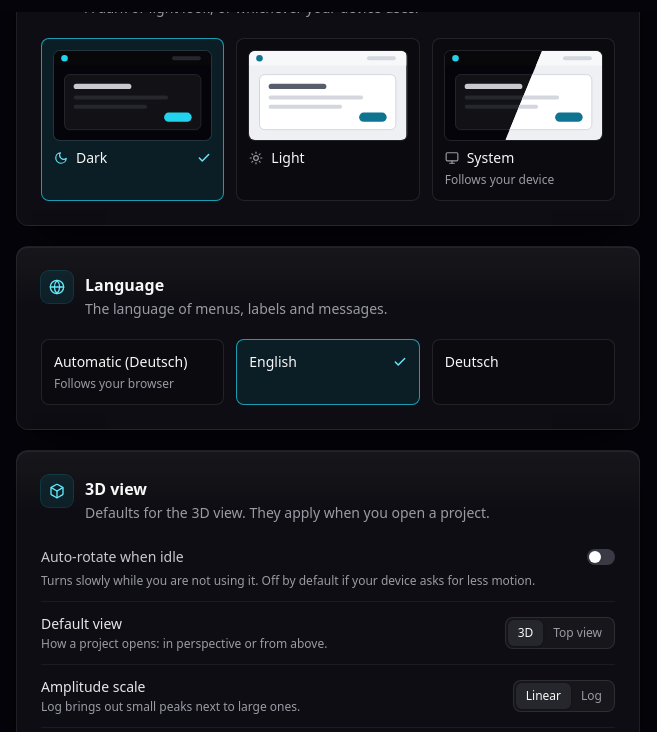
Scenario: Settings: appearance and language › switches the language, and the page follows
The width and height of the screenshot is (657, 732).
(page scrolled)
Expected: the radio button labelled "English" is checked, [236,339,420,405]
Expected: the radio button labelled "Automatic (Deutsch)" is not checked, [41,339,224,405]
Click the radio button labelled "Deutsch" at (523, 372), box [432,339,615,405]
(page scrolled)
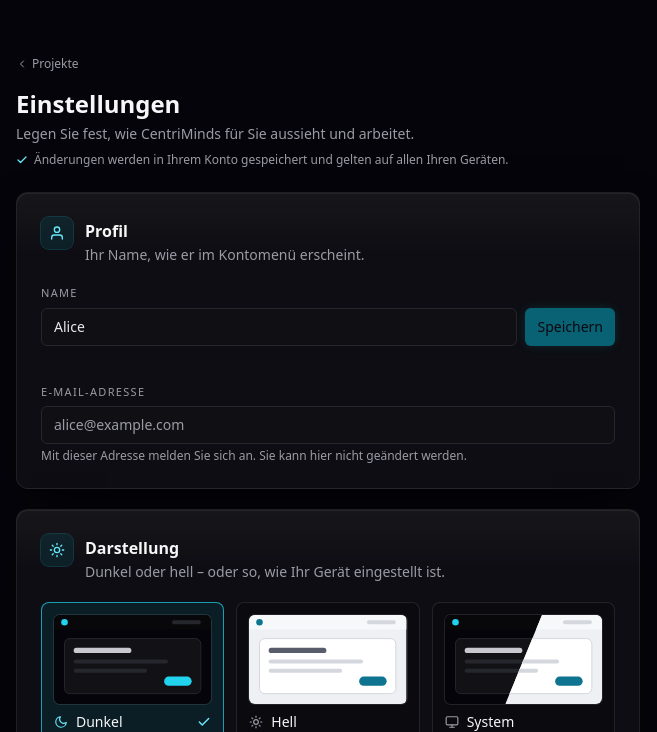
Expected: the radio button labelled "Hell" is shown, [236,602,420,731]
Result: the heading "Einstellungen" is shown at [16,87,180,120]
Result: the element "Darstellung" is shown at [16,509,640,731]
